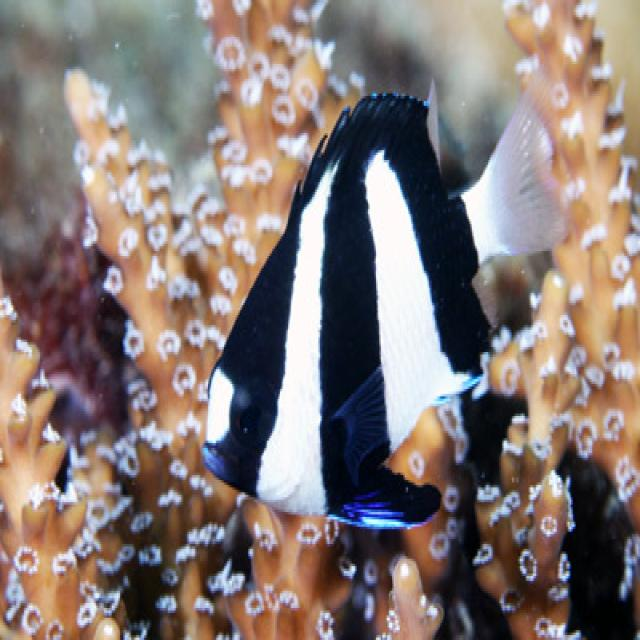ThreeStripedDamselfish: (200, 94, 566, 534)
